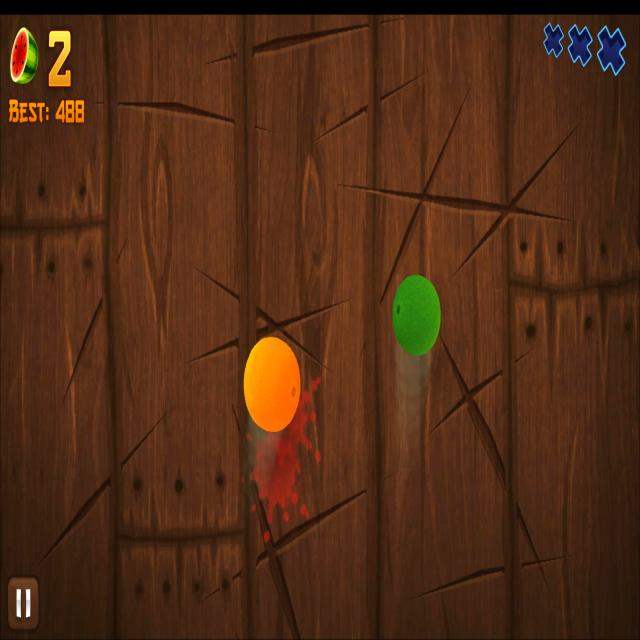fruit: (243, 336, 301, 432), (392, 273, 441, 357)
